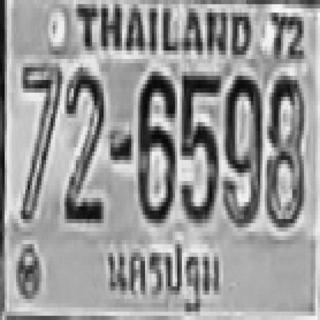N02: (62, 67, 104, 219)
N05: (180, 72, 219, 219)
N06: (136, 67, 175, 219)
N07: (20, 59, 61, 219)
N08: (265, 74, 304, 225)
N09: (221, 72, 260, 223)
P28: (99, 230, 223, 317)
